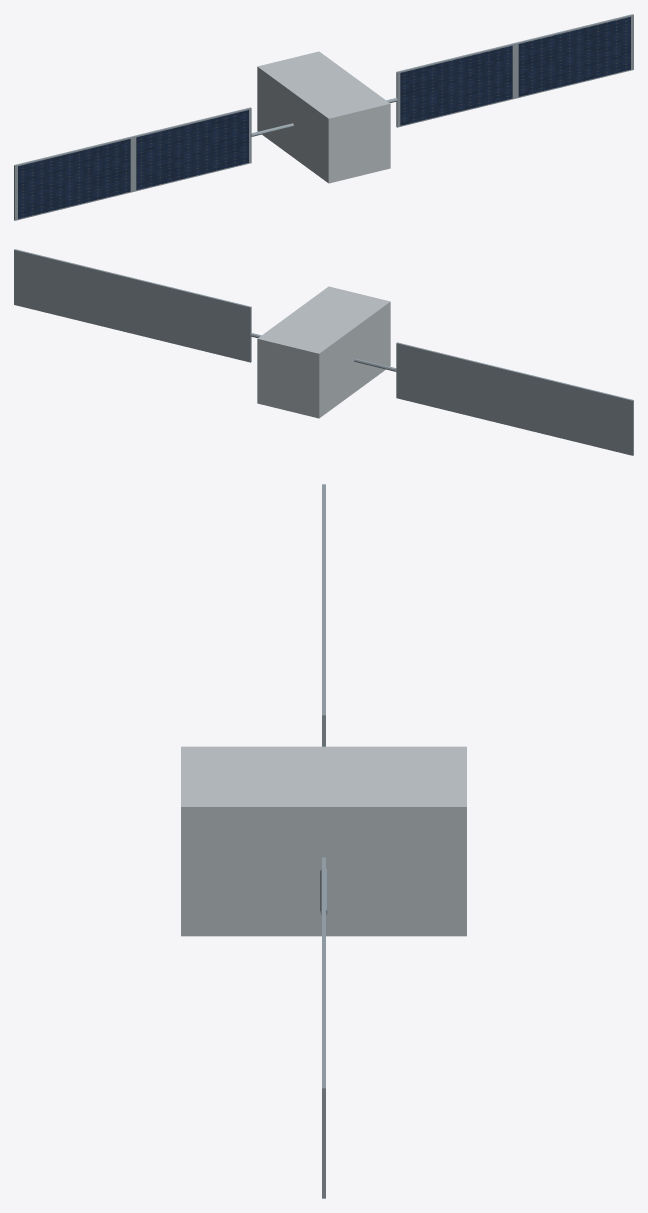
File: ref-sj29-67302.glb
3 renders of one model, top to bottom at view 1: azimuth 30°, elevation 25°; view 2: azimuth 150°, elevation 25°; view 3: azimuth 270°, elevation 25°, orthographic. The views are drawn at different scales.
Parts seen in each view (by area): view 1: Photovoltaic laminates (×4), Spacecraft body, Array frame (×4); view 2: Array frame (×4), Spacecraft body; view 3: Spacecraft body.
Boxes of the visible parts, bbox=[...] form: Photovoltaic laminates (×4): bbox=[18, 17, 630, 218]; Spacecraft body: bbox=[257, 51, 390, 183]; Array frame (×4): bbox=[14, 14, 633, 220]; Array frame (×4): bbox=[14, 249, 633, 455]; Spacecraft body: bbox=[257, 286, 390, 418]; Spacecraft body: bbox=[181, 746, 466, 936].
Bounding box in the file's own units: 25 × 2.5 × 5.
Materials: 3 (1 with a texture image).
